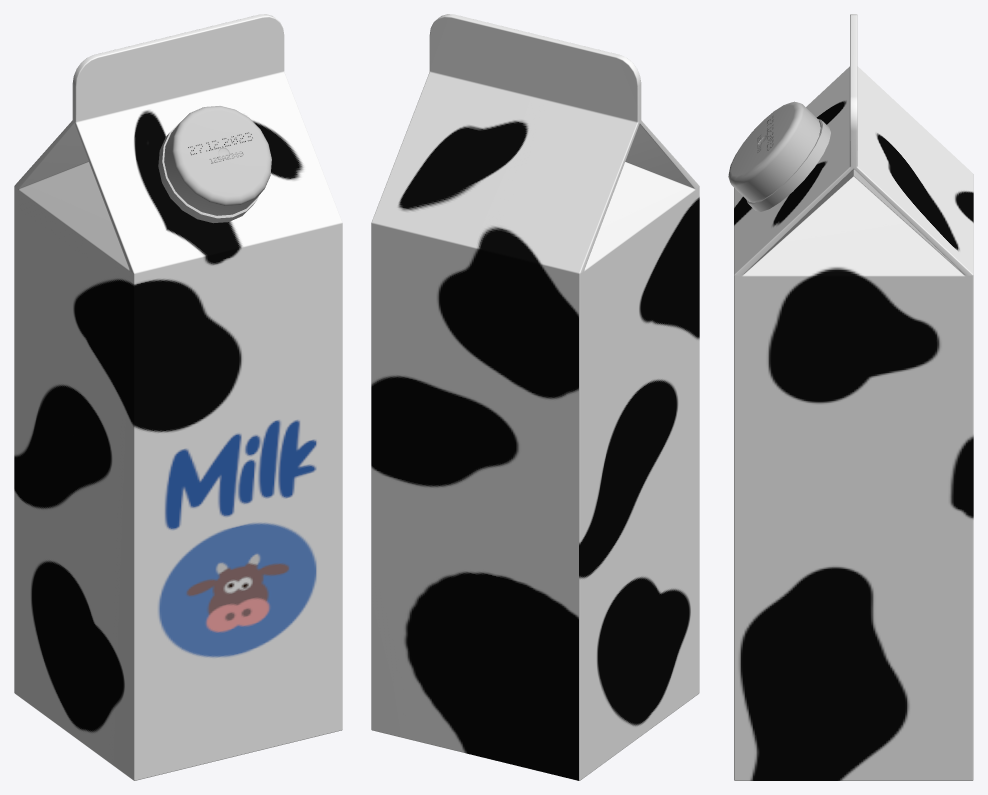
File: Milk Carton old.fbx
3 views of the same model, side by side, from view 1: azimuth 30°, elevation 25°; view 2: azimuth 150°, elevation 25°; view 3: azimuth 270°, elevation 25° (orthographic).
Parts seen in each view (by area): view 1: pCylinder3; view 2: pCylinder3; view 3: pCylinder3.
Boxes of the visible parts, x1=… form: pCylinder3: x1=14, y1=14, x2=342, y2=780; pCylinder3: x1=371, y1=14, x2=699, y2=780; pCylinder3: x1=728, y1=14, x2=973, y2=780.
Bounding box in the file's own units: 0.9354 × 2.89 × 0.9545.
1 material, 1 textured.
